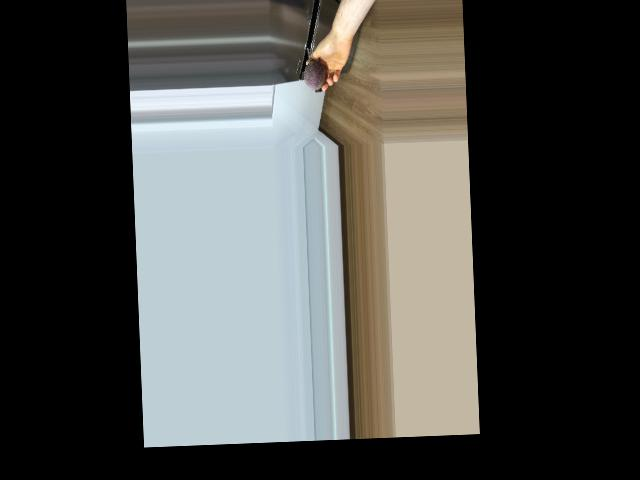beet: (303, 48, 326, 93)
